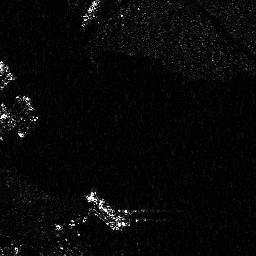ship: (84, 191, 131, 228)
